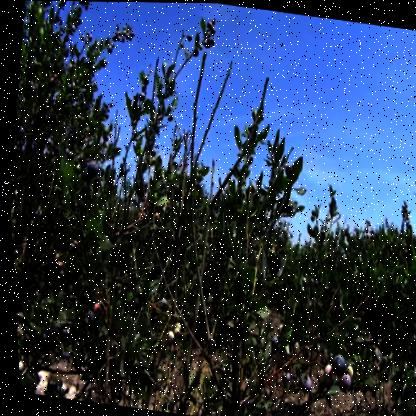intermediate: (88, 299, 99, 317)
mature: (293, 371, 312, 394), (81, 162, 99, 182), (329, 353, 344, 373), (335, 370, 347, 388)
young: (315, 362, 332, 387), (163, 328, 177, 341)
